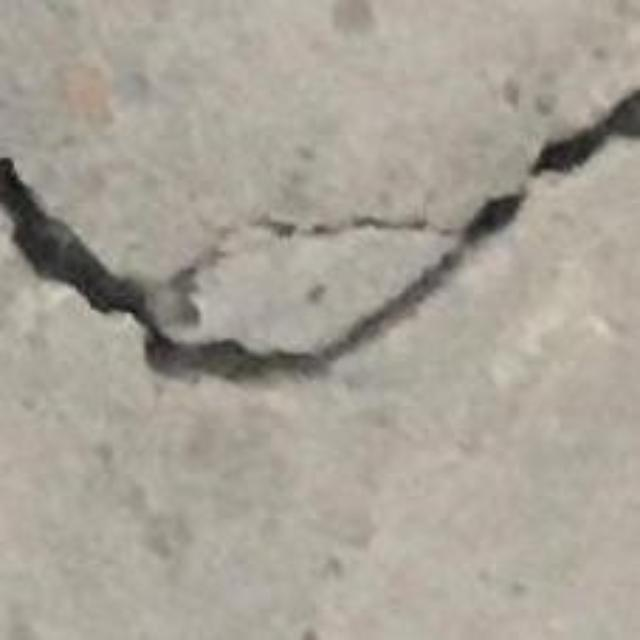crack: (0, 158, 527, 377)
